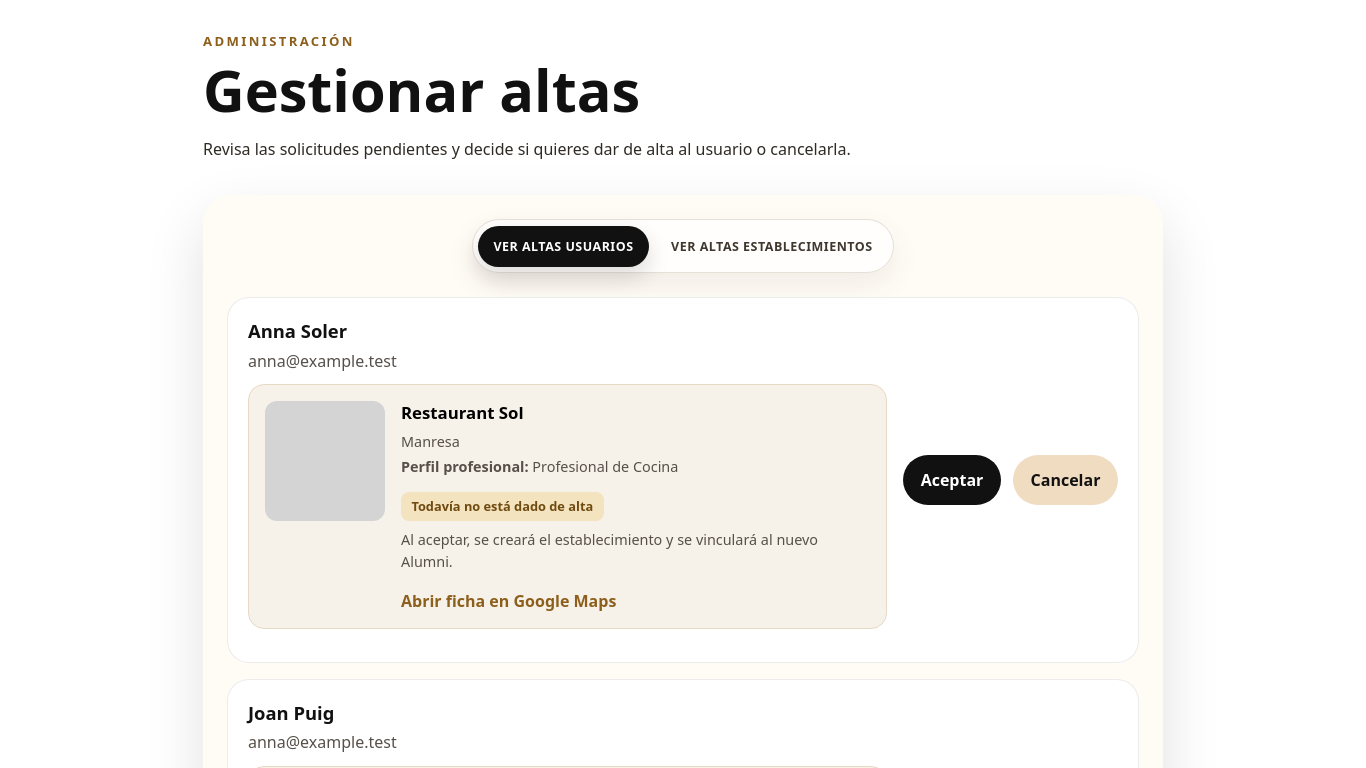
uses the actual server outcome and updates other requests for the same place (created: true)
Check: the heading "Anna Soler" is shown, box [248, 318, 347, 343]
Click the button "Aceptar": [952, 480] box [903, 455, 1001, 505]
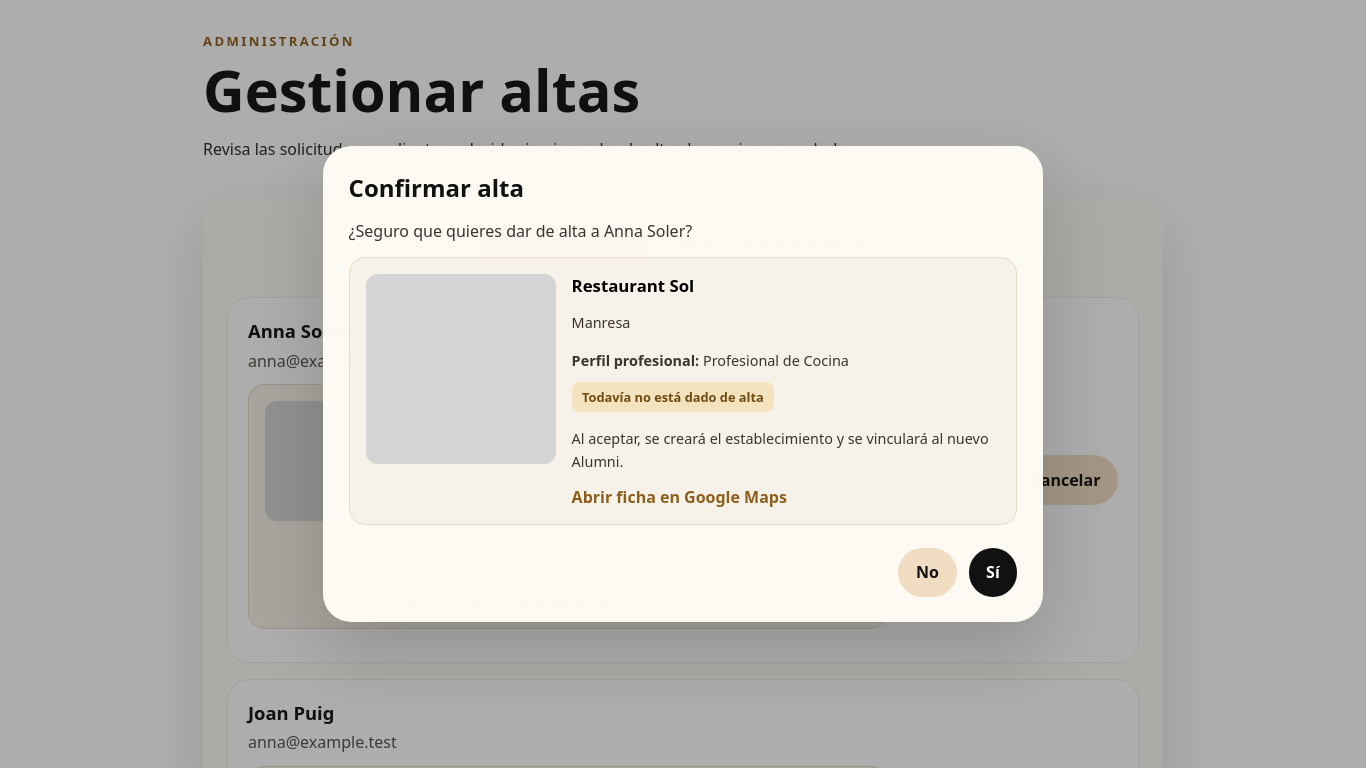
Click the button "Sí": [993, 572] box [968, 548, 1017, 597]
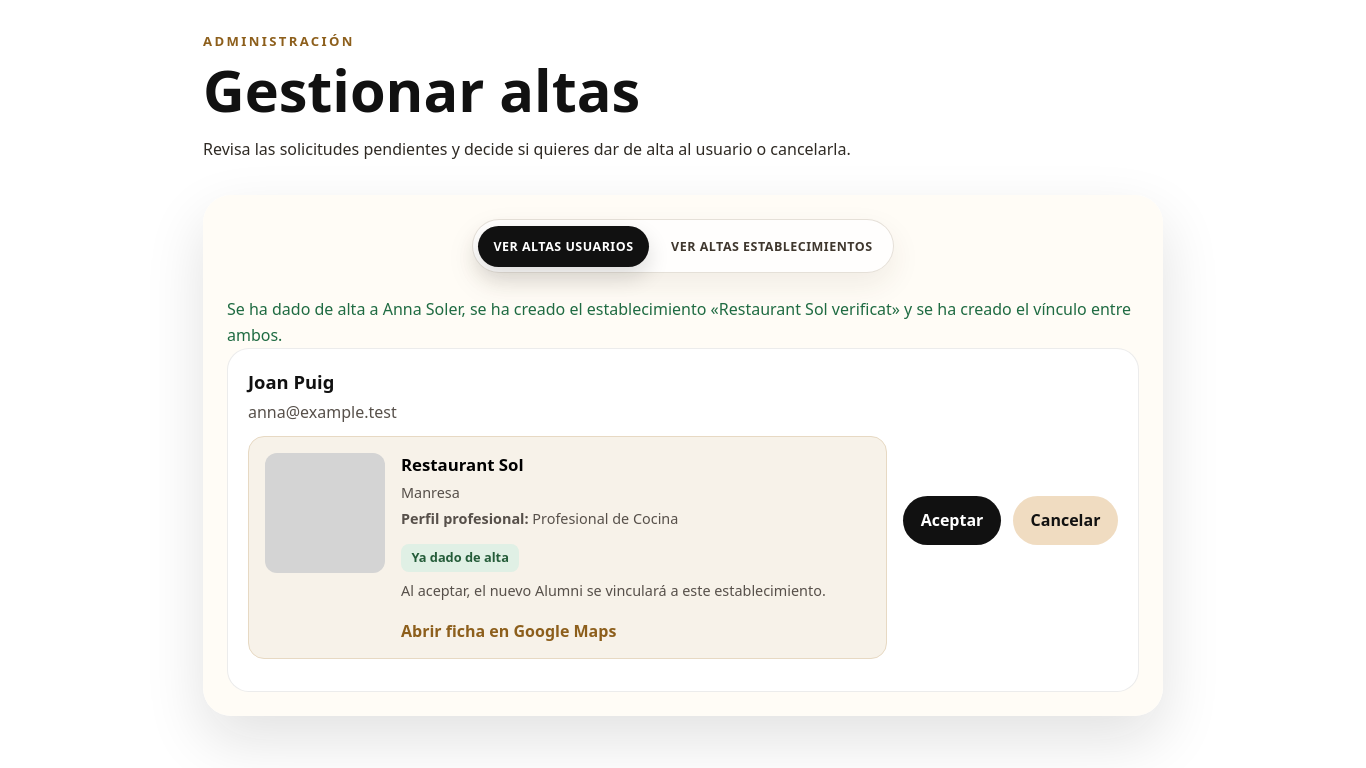
Check: the dialog is gone
Check: the message shows "Anna Soler", box [227, 298, 1131, 346]
Check: the message shows "Restaurant Sol verificat", box [227, 298, 1131, 346]
